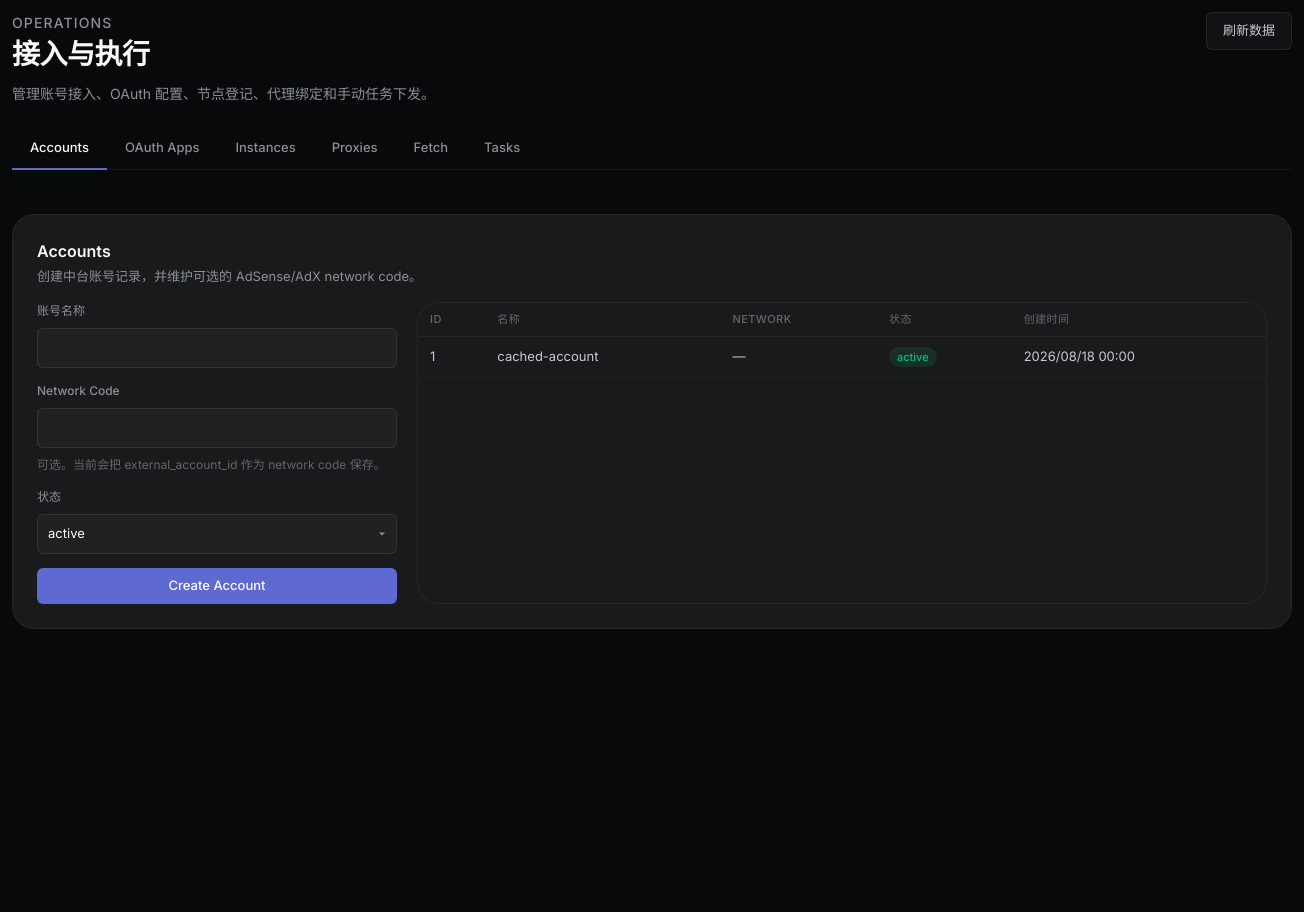
Test case: OperationsPage progressive loading › creates a Task and immediately establishes a fresh first-page snapshot
This screenshot has width=1304, height=912.
Click the button "Tasks".
click(502, 149)  # box [466,128,538,170]
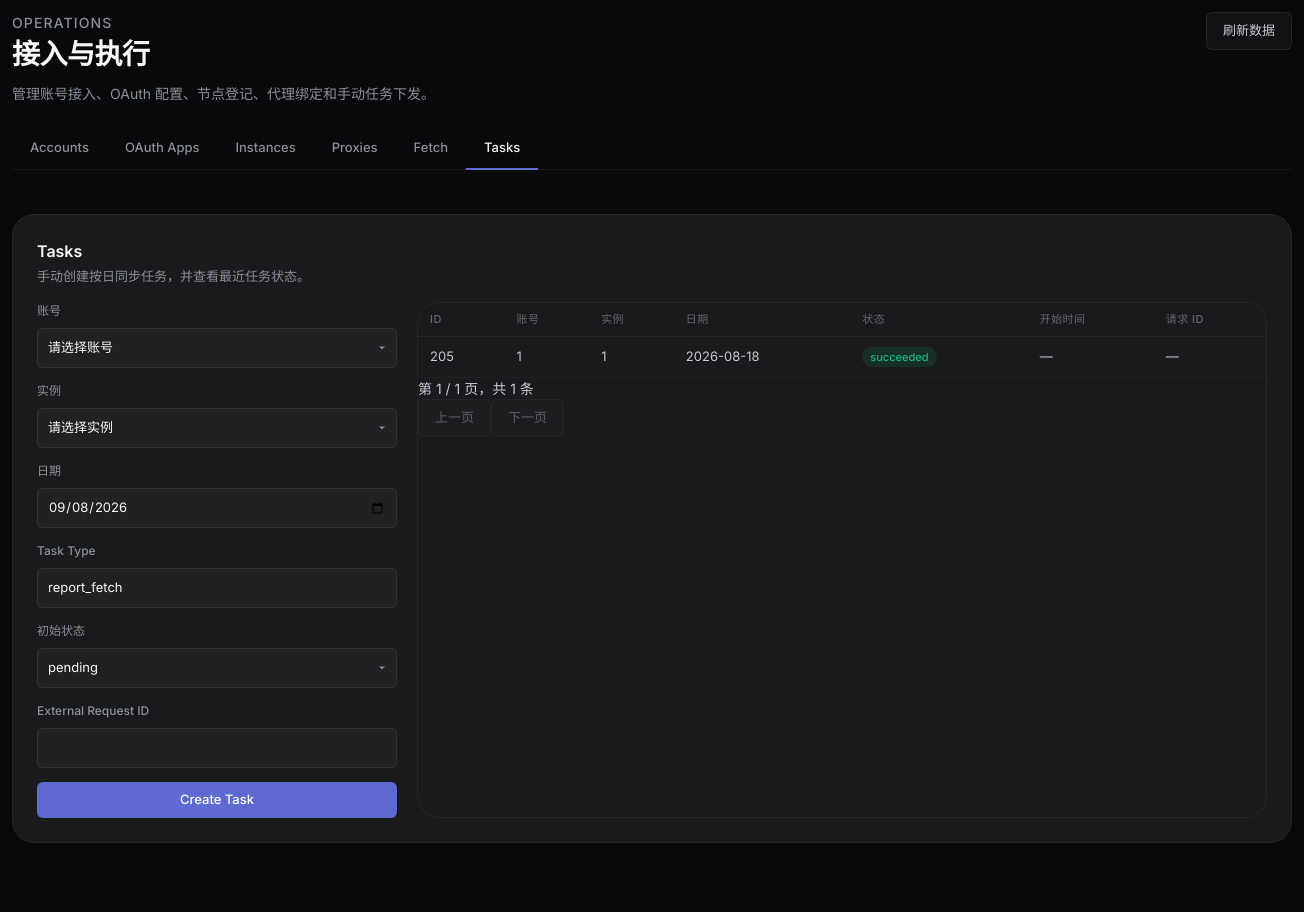
Select "1 - cached-account" in the dropdown labelled "账号" at x=217, y=348, box [37,328,397,368]
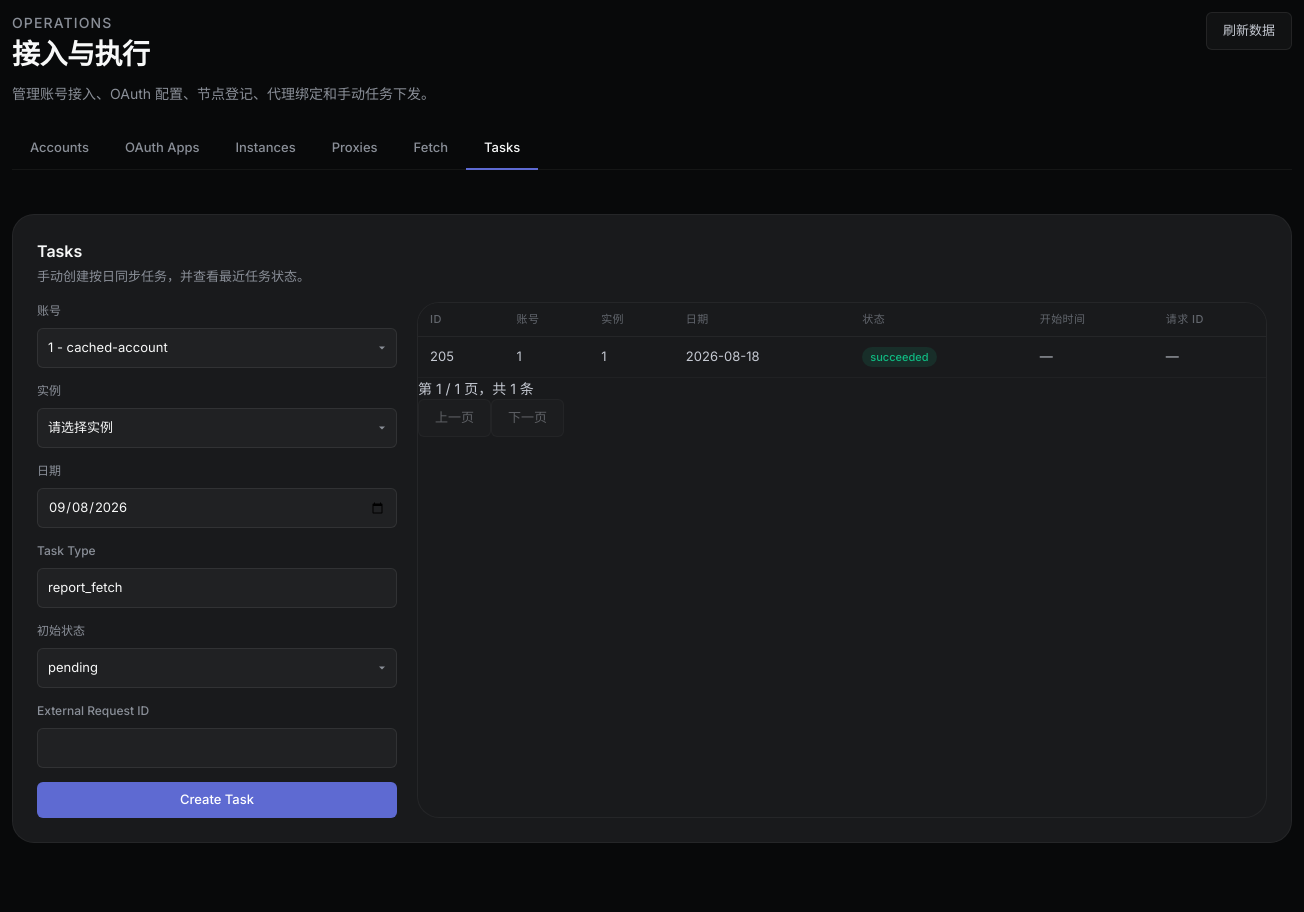
Select "1 - instance-1" in the dropdown labelled "实例" at x=217, y=428, box [37,408,397,448]
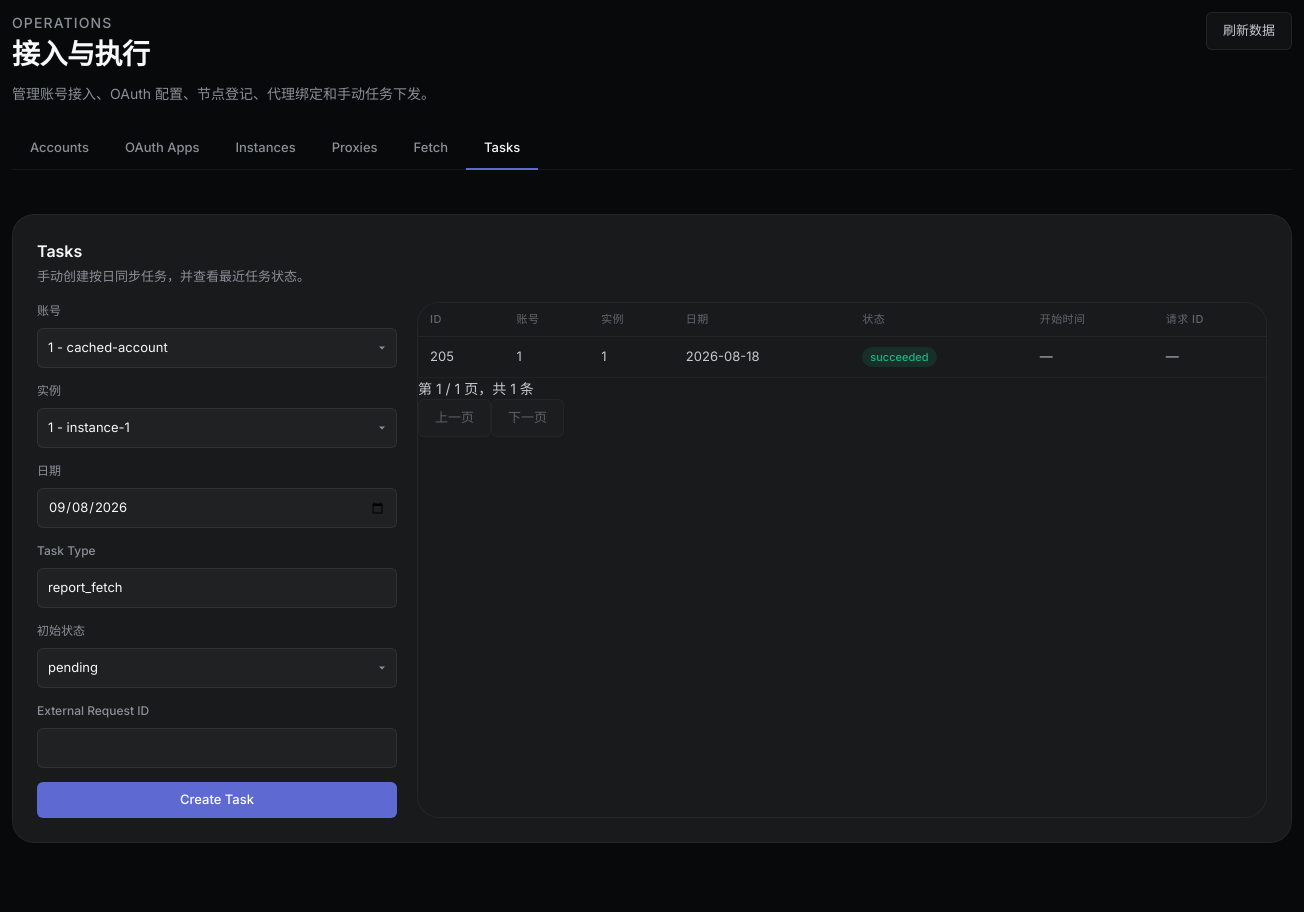
Click the button "Create Task".
click(217, 800)  # box [37,782,397,818]
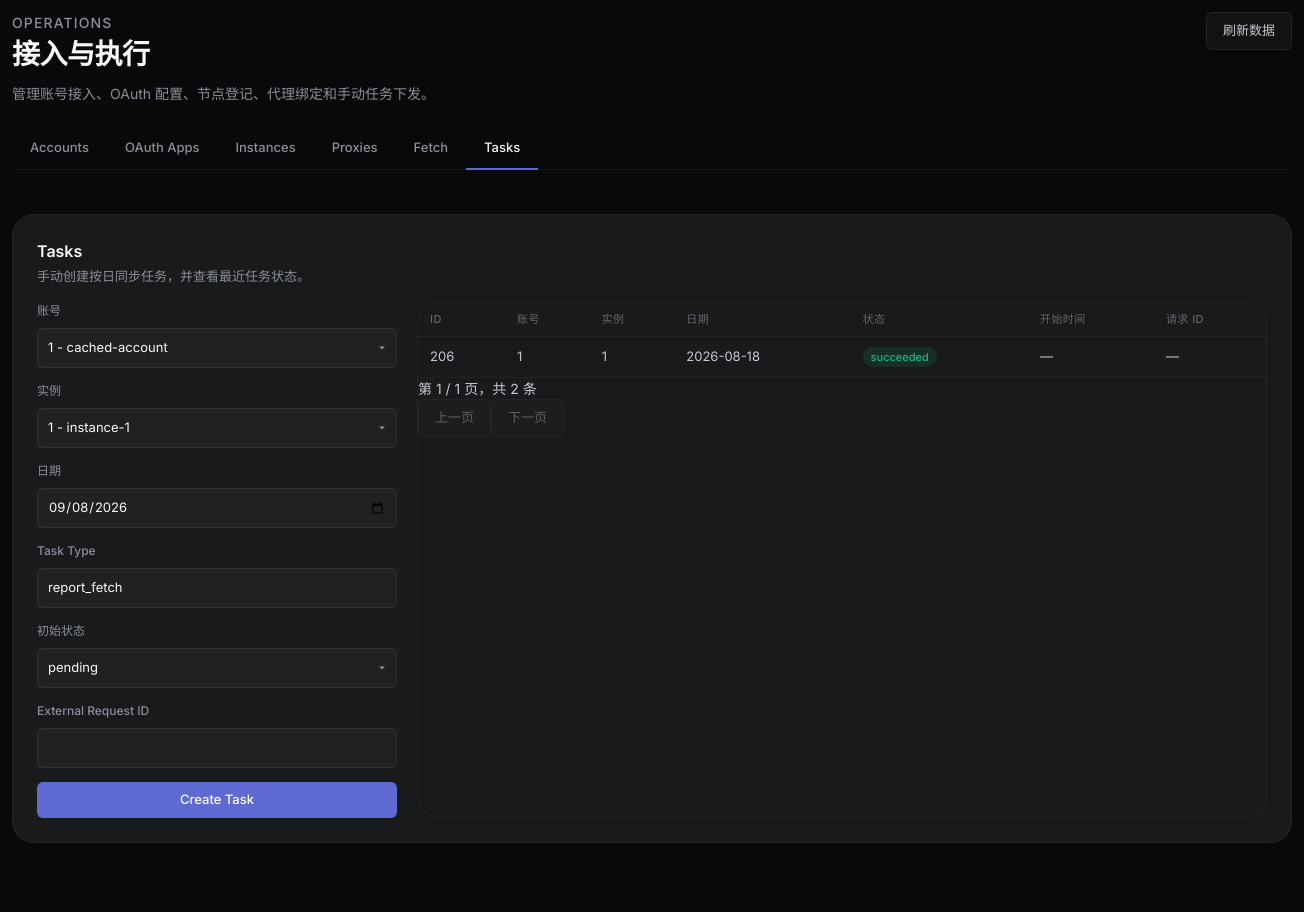
Now the text "206" is shown, box [418,336,505,378]
